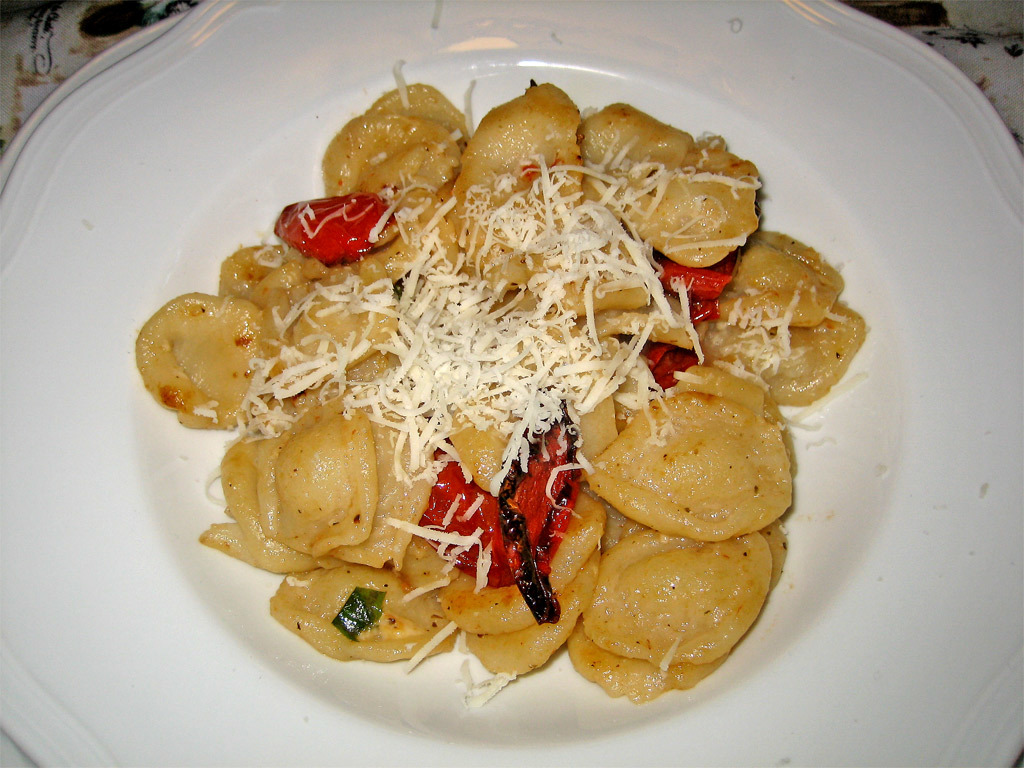pasta: (151, 66, 863, 715)
